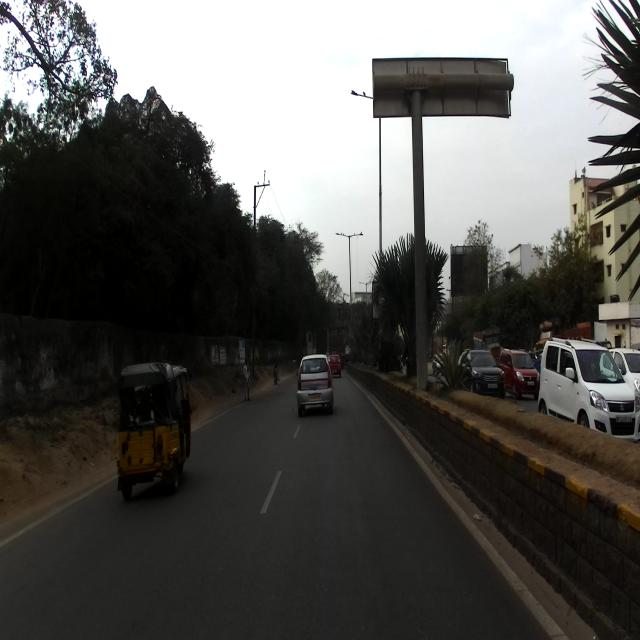auto ahead at: (112, 356, 196, 499)
car ahead at: (296, 354, 333, 414)
